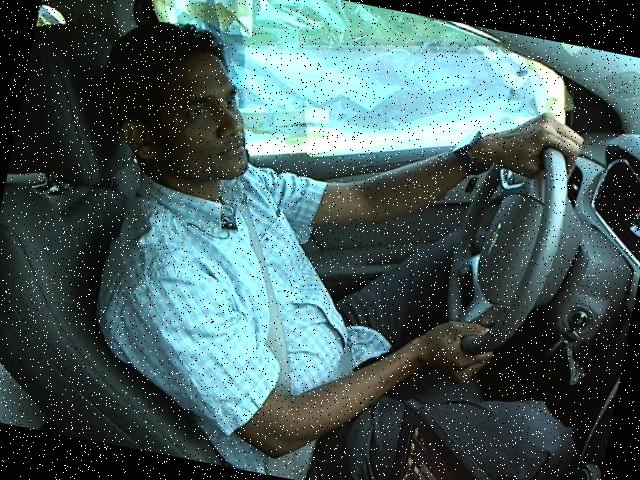c0 - Safe Driving: (28, 2, 596, 479)
